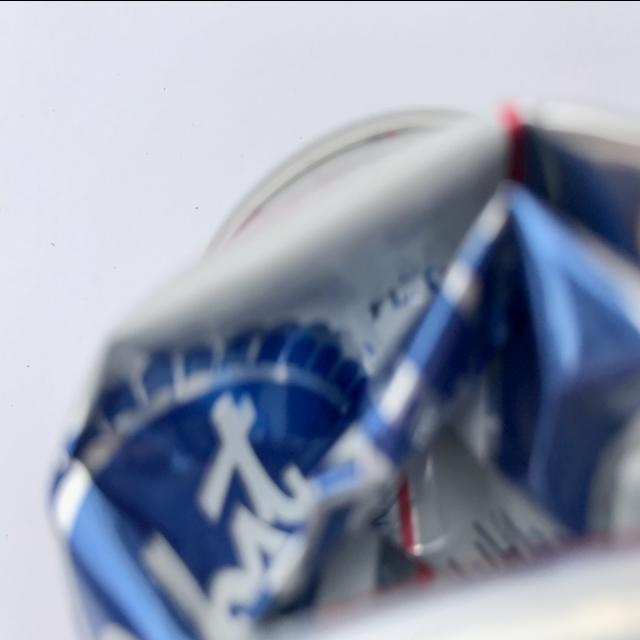Metal: (32, 40, 640, 640)
